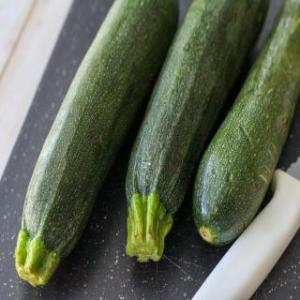zucchini: (1, 0, 142, 292)
